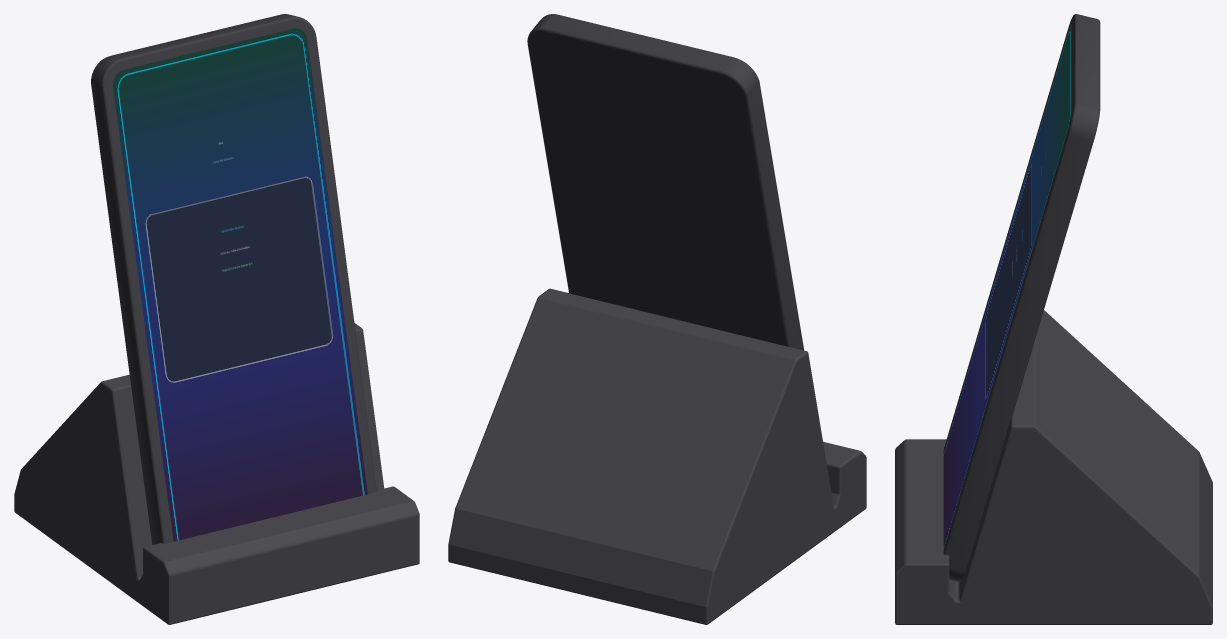
Rendered from phone_desk_stand.glb.
3 views of the same model, side by side, from view 1: azimuth 30°, elevation 25°; view 2: azimuth 150°, elevation 25°; view 3: azimuth 270°, elevation 25° (orthographic). The views are drawn at different scales.
Parts seen in each view (by area): view 1: Smartphone, DeskStand; view 2: DeskStand, Smartphone; view 3: DeskStand, Smartphone.
Part boxes in pixels (bbox=[...]): Smartphone: bbox=[91, 14, 376, 544]; DeskStand: bbox=[14, 323, 419, 624]; DeskStand: bbox=[448, 288, 866, 624]; Smartphone: bbox=[527, 14, 804, 350]; DeskStand: bbox=[895, 310, 1212, 624]; Smartphone: bbox=[943, 14, 1100, 581].
Size of the model in its own units: 0.088 by 0.1645 by 0.094.
3 materials, 1 textured.
